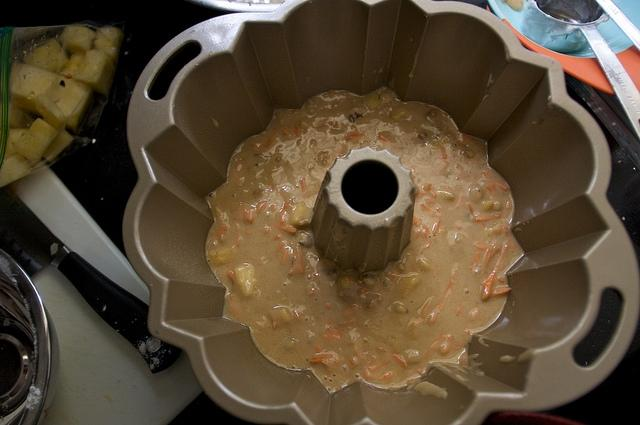pineapple: (10, 61, 58, 117), (72, 50, 116, 96), (24, 39, 70, 74), (93, 26, 125, 66), (36, 93, 66, 131), (60, 26, 96, 56), (0, 154, 32, 186), (8, 104, 35, 130), (60, 52, 84, 78), (5, 128, 28, 155)
